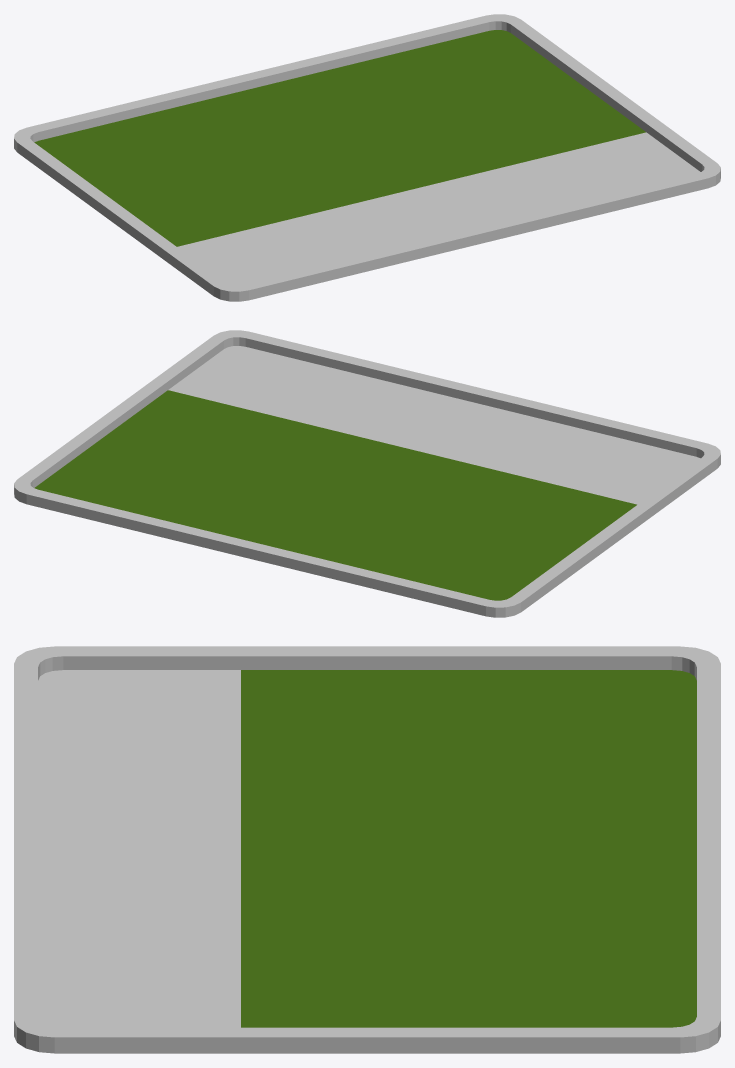
3 views of the same model, one above another, from view 1: azimuth 30°, elevation 25°; view 2: azimuth 150°, elevation 25°; view 3: azimuth 270°, elevation 25° (orthographic). The views are drawn at different scales.
Parts seen in each view (by area): view 1: Plane.037; view 2: Plane.037; view 3: Plane.037.
Boxes of the visible parts, x1,y1,x2,y2 form: Plane.037: (14,14,720,301); Plane.037: (14,330,720,617); Plane.037: (14,646,720,1053).
Bounding box in the file's own units: 2428 × 1856 × 46.45.
